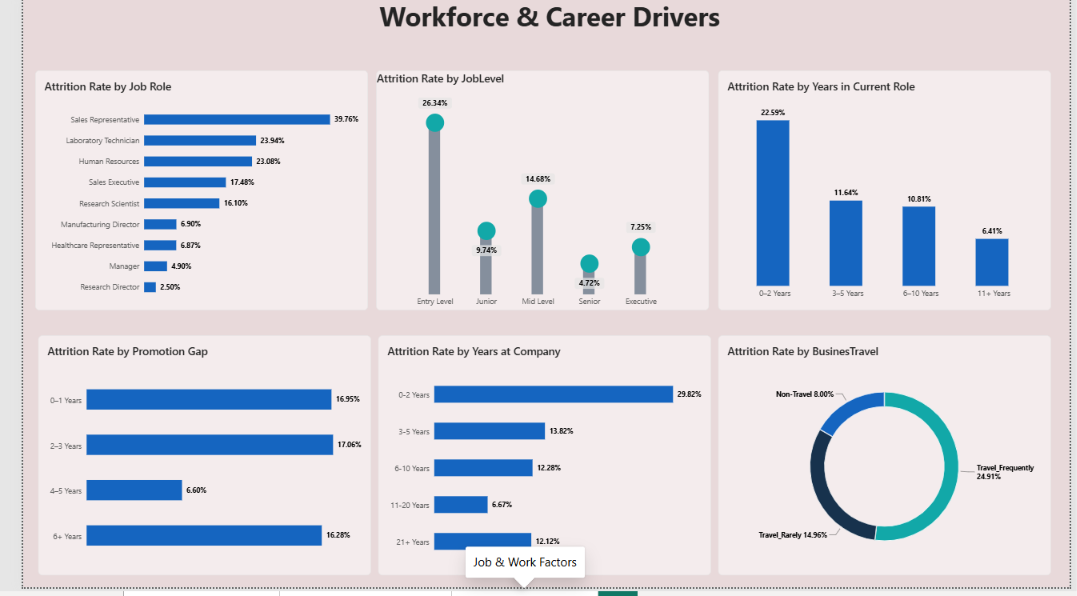

The page's visual inventory and layout, read from the dashboard file:
{"tool":"powerbi","page":{"name":"Job & Work Factors","canvas":[1920,1080],"ordinal":2},"visuals":[{"type":"textbox","box":[10.9,0,1909.2,77.8],"z":0},{"type":"clusteredBarChart","title":"Attrition Rate by Job Role","fields":{"Category":["HR_Data.JobRole"],"Y":["HR_Data.Attrition Rate"]},"box":[22,132.4,610,440],"z":1000},{"type":"lineStackedColumnComboChart","title":"Attrition Rate by JobLevel","fields":{"Category":["HR_Data.JobLevel_Label"],"Y":["HR_Data.Attrition Rate"],"Y2":["HR_Data.Attrition Rate"]},"box":[648,132.4,610,440],"z":2000},{"type":"donutChart","title":"Attrition Rate by BusinesTravel ","fields":{"Category":["HR_Data.BusinessTravel"],"Y":["HR_Data.Attrition Rate"]},"box":[1274,618,610,440],"z":3000},{"type":"clusteredBarChart","title":"Attrition Rate by Promotion Gap","fields":{"Y":["HR_Data.Attrition Rate"],"Category":["HR_Data.PromotionGap_Group"]},"box":[26.8,618,610,440],"z":4000},{"type":"clusteredBarChart","title":"Attrition Rate by Years at Company","fields":{"Y":["HR_Data.Attrition Rate"],"Category":["HR_Data.tenure_group"]},"box":[650.4,618,610,440],"z":5000},{"type":"clusteredColumnChart","title":"Attrition Rate by Years in Current Role","fields":{"Category":["HR_Data.CurrentRole_Group"],"Y":["HR_Data.Attrition Rate"]},"box":[1274,132,610,440],"z":6000}]}

Visuals, with their boxes in screenshot pixels (x1, y1, x2, y2), scaled from the page's 1920x1080 canvas onto the 1077x596 screenshot:
textbox: {"x1": 6, "y1": 0, "x2": 1076, "y2": 43}
"Attrition Rate by Job Role" clusteredBarChart: {"x1": 12, "y1": 73, "x2": 355, "y2": 316}
"Attrition Rate by JobLevel" lineStackedColumnComboChart: {"x1": 363, "y1": 73, "x2": 706, "y2": 316}
"Attrition Rate by BusinesTravel " donutChart: {"x1": 715, "y1": 341, "x2": 1057, "y2": 584}
"Attrition Rate by Promotion Gap" clusteredBarChart: {"x1": 15, "y1": 341, "x2": 357, "y2": 584}
"Attrition Rate by Years at Company" clusteredBarChart: {"x1": 365, "y1": 341, "x2": 707, "y2": 584}
"Attrition Rate by Years in Current Role" clusteredColumnChart: {"x1": 715, "y1": 73, "x2": 1057, "y2": 316}
